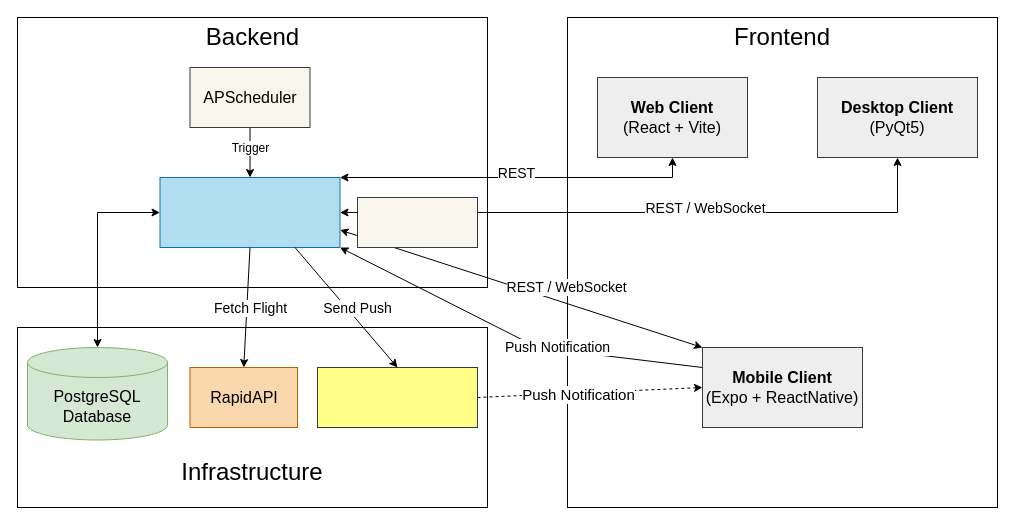
The diagram is 1015 pixels wide and 525 high, and some of its shapes have lost their labels. The shapes that lost their labels are listed below. From the top down, each one's box as (x1, y1, x2, y2) in pixels, then its label:
(159, 176, 340, 248): Flask [Flask RESTful API]
(356, 196, 478, 248): Socket.io Real-time
(316, 366, 478, 428): Firebase Cloud Messaging
